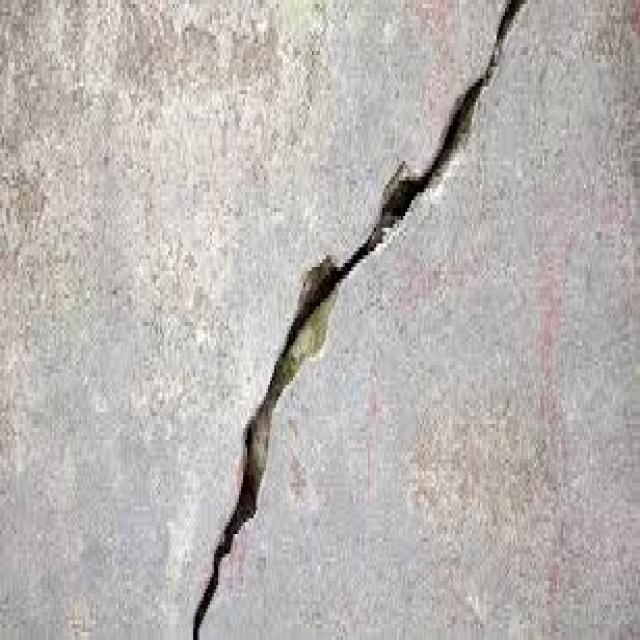Crack: (187, 0, 522, 636)
